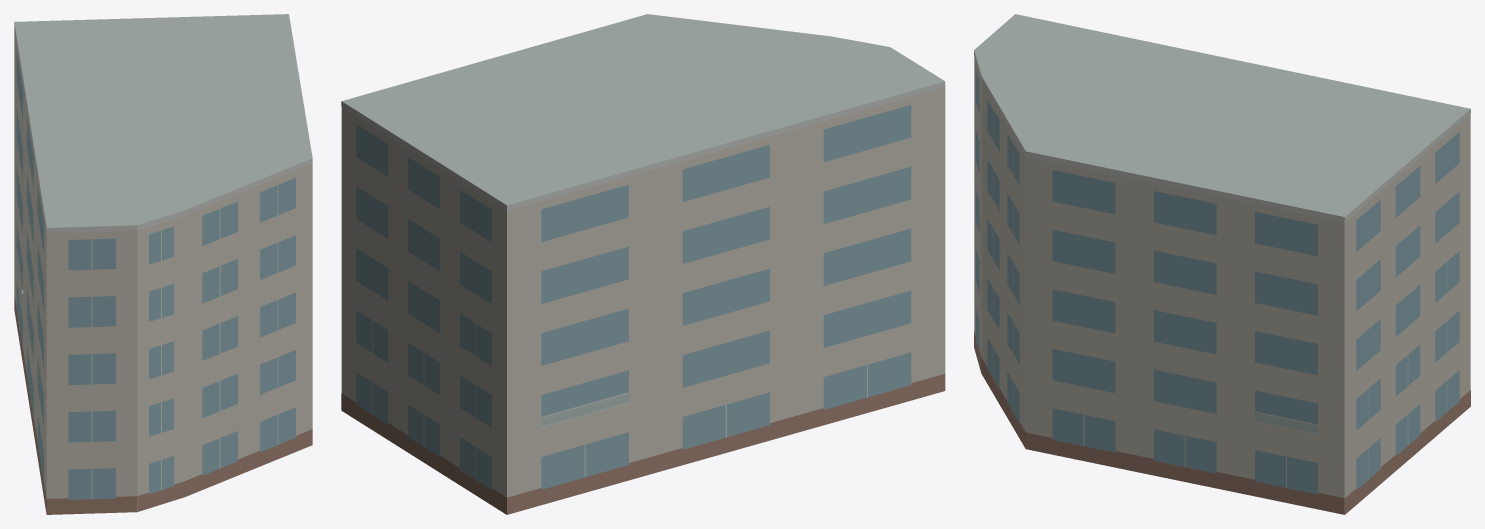
The model's file is survey-upis-32965216.glb.
3 views of the same model, side by side, from view 1: azimuth 30°, elevation 25°; view 2: azimuth 150°, elevation 25°; view 3: azimuth 270°, elevation 25° (orthographic). The views are drawn at different scales.
Visible parts, largest first — view 1: survey-upis-32965216.tmp; view 2: survey-upis-32965216.tmp; view 3: survey-upis-32965216.tmp.
Boxes of the visible parts, x1=… form: survey-upis-32965216.tmp: x1=14, y1=14, x2=312, y2=514; survey-upis-32965216.tmp: x1=341, y1=14, x2=945, y2=514; survey-upis-32965216.tmp: x1=974, y1=14, x2=1470, y2=514.
Size of the model in its own units: 19.76 by 13.5 by 20.41.
